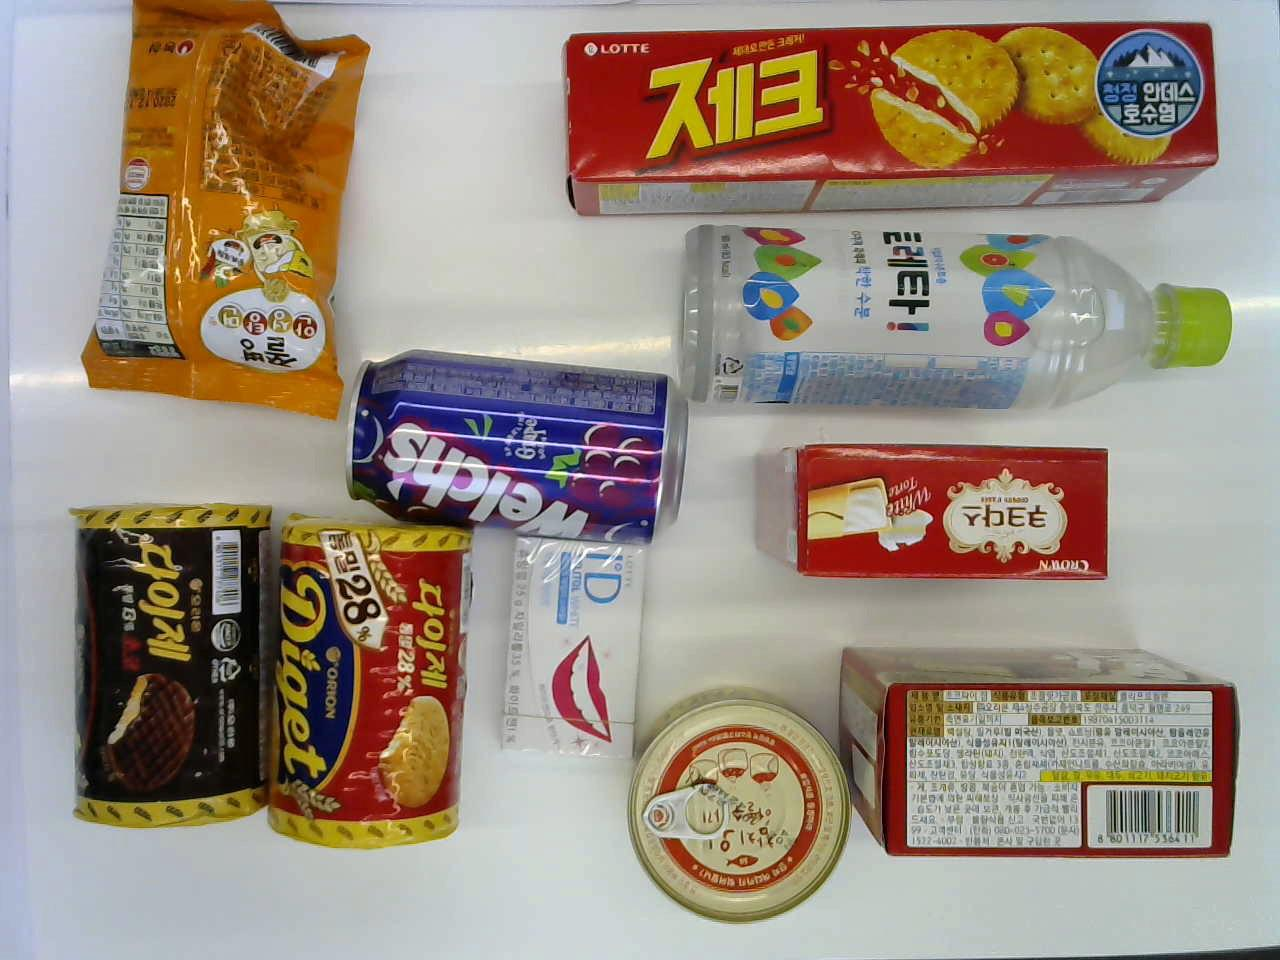ID_gum: (490, 523, 650, 767)
chocopie: (843, 636, 1256, 872)
couque_white: (743, 435, 1127, 599)
diget_choco: (59, 501, 271, 841)
diget_ori: (264, 507, 478, 861)
jjolbyung_noodle: (68, 0, 369, 424)
toreta: (673, 217, 1241, 428)
tuna: (625, 688, 845, 929)
welchs: (349, 342, 693, 554)
zec: (543, 11, 1224, 219)
